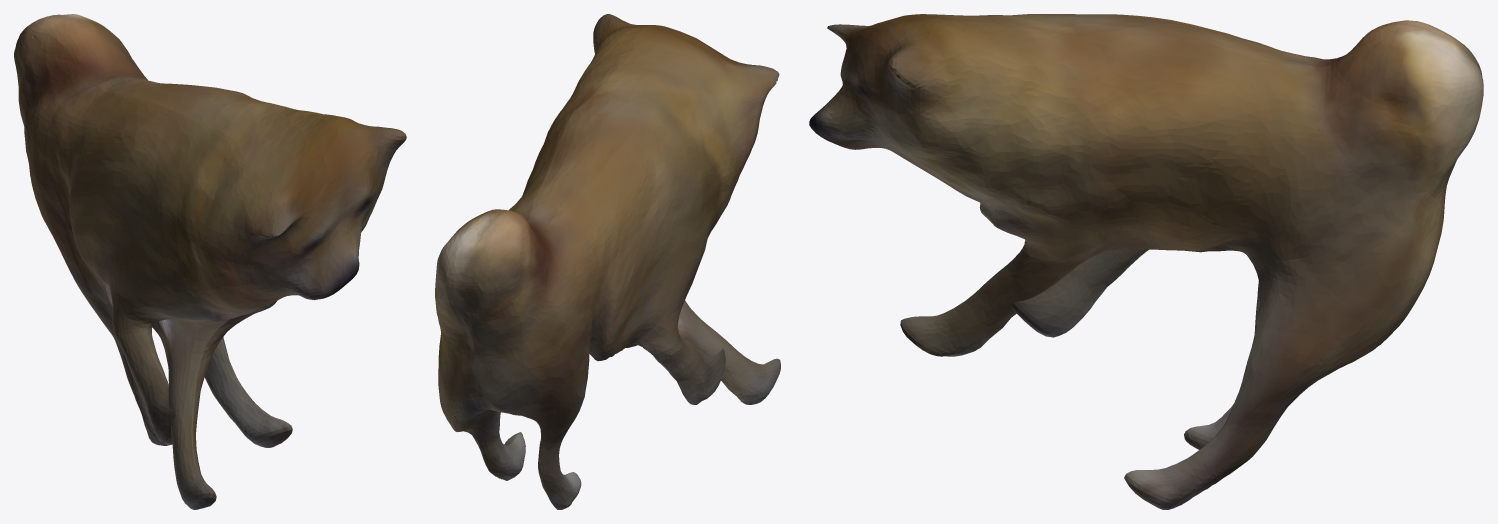
File: shiba-haru-1002-mesh-00001.obj
3 renders of one model, left to right at view 1: azimuth 30°, elevation 25°; view 2: azimuth 150°, elevation 25°; view 3: azimuth 270°, elevation 25°, orthographic. The views are drawn at different scales.
Size of the model in its own units: 0.0384 by 0.0744 by 0.0969.
